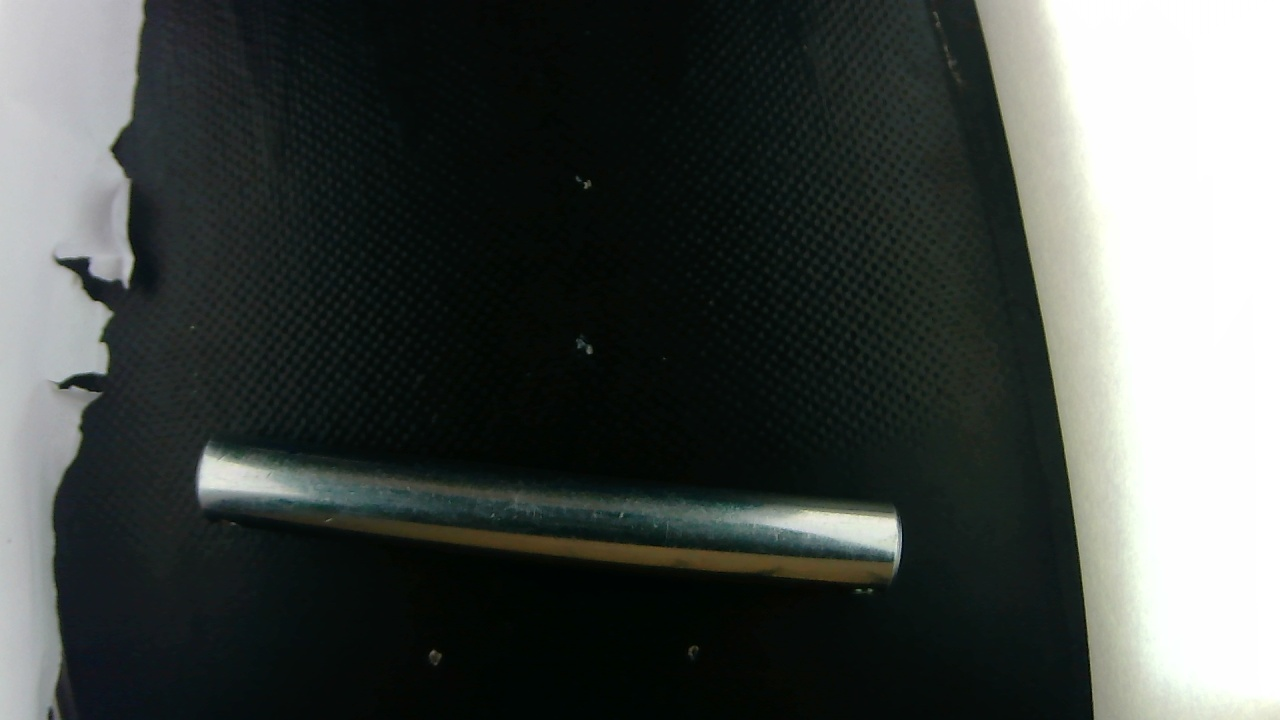Okay_Pin: (197, 441, 900, 588)
